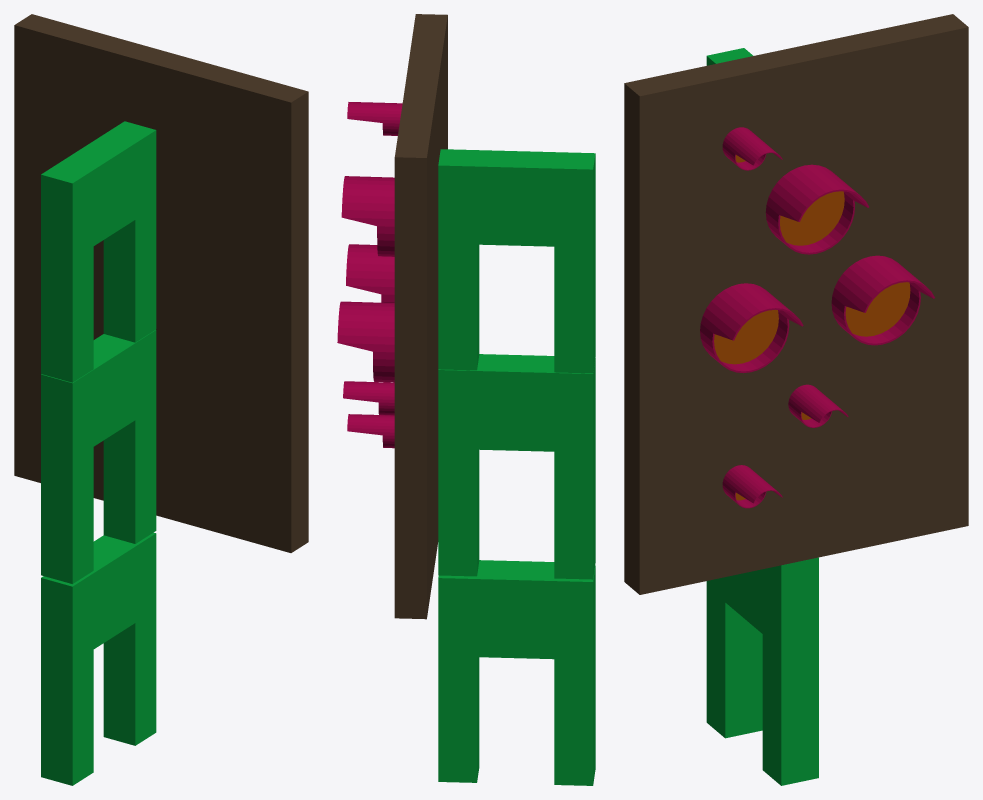
The model's file is advtrains_signals_ks_main_smr60.obj.
3 views of the same model, side by side, from view 1: azimuth 30°, elevation 25°; view 2: azimuth 150°, elevation 25°; view 3: azimuth 270°, elevation 25° (orthographic). The views are drawn at different scales.
Parts seen in each view (by area): view 1: KsHauptsignal_Plane.006_Schirm, KsHauptsignal_Plane.006_Mast; view 2: KsHauptsignal_Plane.006_Mast, KsHauptsignal_Plane.006_Schirm, KsHauptsignal_Plane.006_Lampenrahmen; view 3: KsHauptsignal_Plane.006_Schirm, KsHauptsignal_Plane.006_Mast, KsHauptsignal_Plane.006_Lampenrahmen, KsHauptsignal_Plane.006_Lights.
Boxes of the visible parts, x1,y1,x2,y2 form: KsHauptsignal_Plane.006_Schirm: [14, 14, 308, 552]; KsHauptsignal_Plane.006_Mast: [41, 121, 156, 785]; KsHauptsignal_Plane.006_Mast: [438, 149, 595, 785]; KsHauptsignal_Plane.006_Schirm: [394, 14, 447, 619]; KsHauptsignal_Plane.006_Lampenrahmen: [337, 102, 402, 448]; KsHauptsignal_Plane.006_Schirm: [624, 14, 968, 594]; KsHauptsignal_Plane.006_Mast: [706, 48, 818, 785]; KsHauptsignal_Plane.006_Lampenrahmen: [700, 127, 934, 508]; KsHauptsignal_Plane.006_Lights: [714, 155, 910, 500].
Size of the model in its own units: 0.4217 by 1.11 by 0.4688.
